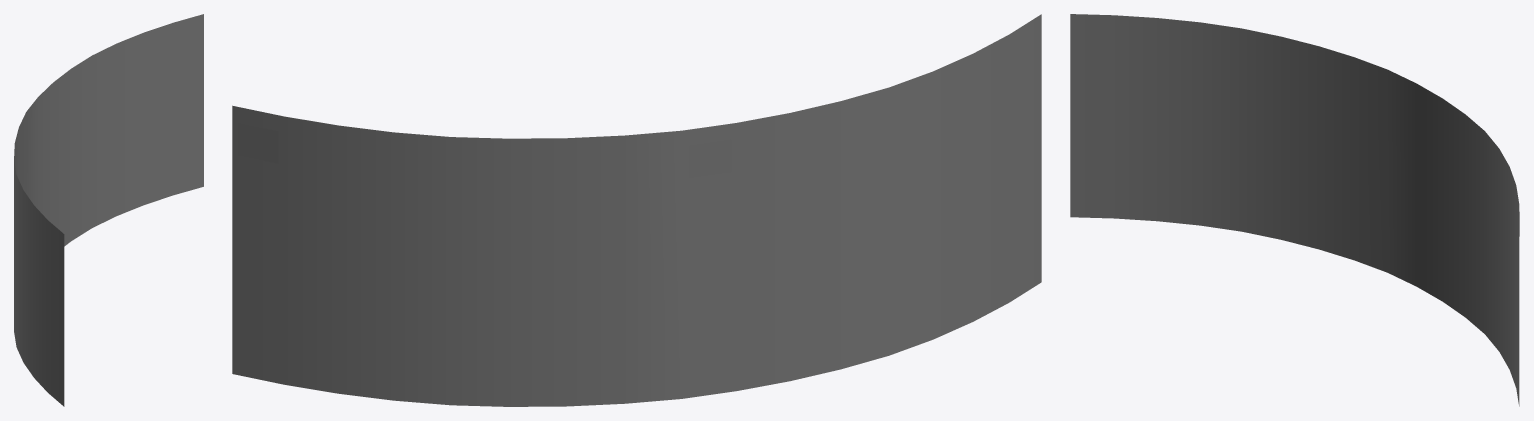
File: q-scifi-mod-shortwall-band2-corner-outer.glb
3 renders of one model, left to right at view 1: azimuth 30°, elevation 25°; view 2: azimuth 150°, elevation 25°; view 3: azimuth 270°, elevation 25°, orthographic. The views are drawn at different scales.
Parts seen in each view (by area): view 1: ShortWall_Band2_Corner_Outer; view 2: ShortWall_Band2_Corner_Outer; view 3: ShortWall_Band2_Corner_Outer.
Part boxes in pixels (bbox=[...]): ShortWall_Band2_Corner_Outer: bbox=[14, 14, 203, 406]; ShortWall_Band2_Corner_Outer: bbox=[232, 14, 1041, 406]; ShortWall_Band2_Corner_Outer: bbox=[1070, 14, 1519, 406].
Bounding box in the file's own units: 4 × 2 × 4.
Materials: 2 (2 with a texture image).
